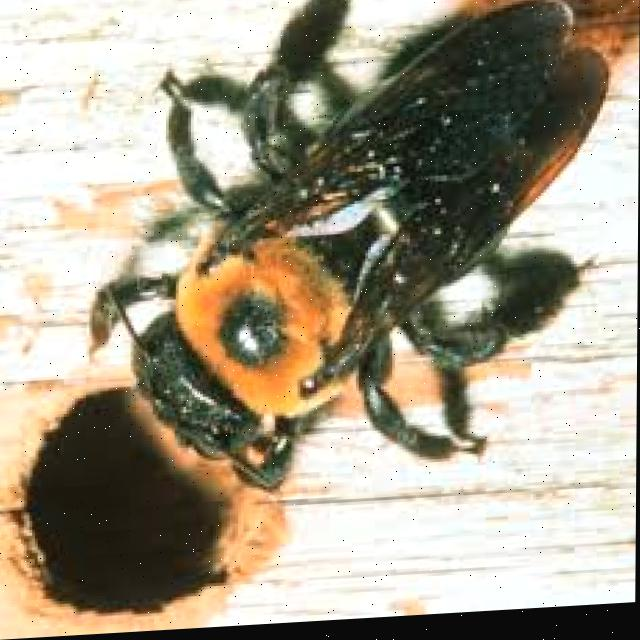Xylocopa: (91, 0, 610, 509)
